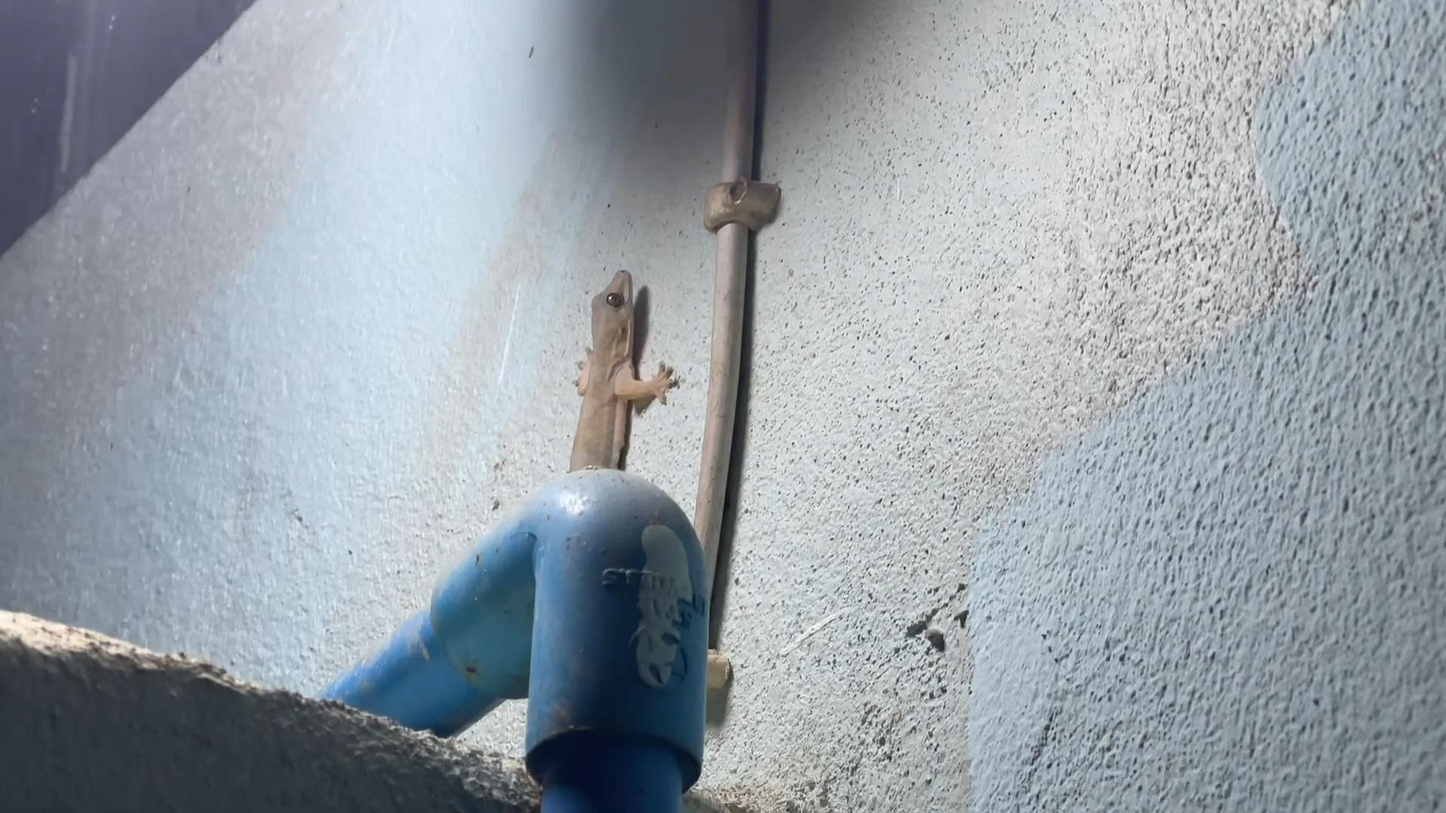lizard: (558, 264, 682, 455)
